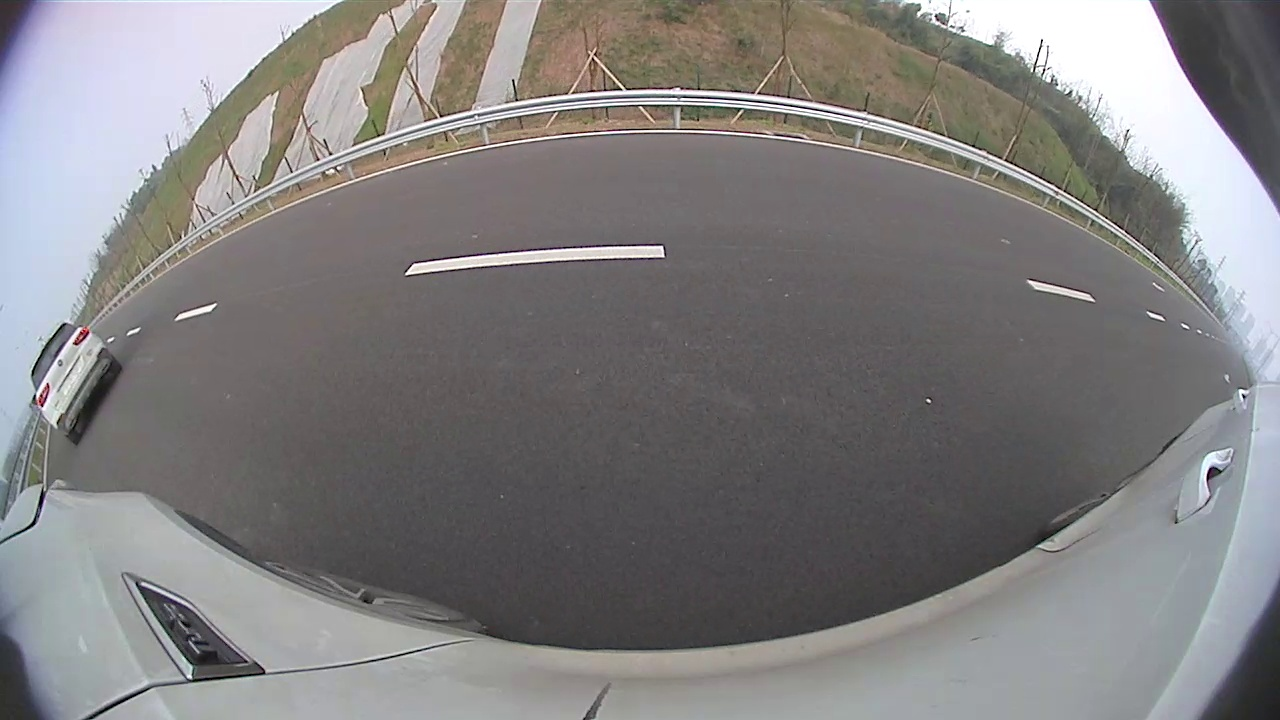car: (503, 155, 571, 204)
rear: (549, 178, 558, 196)
